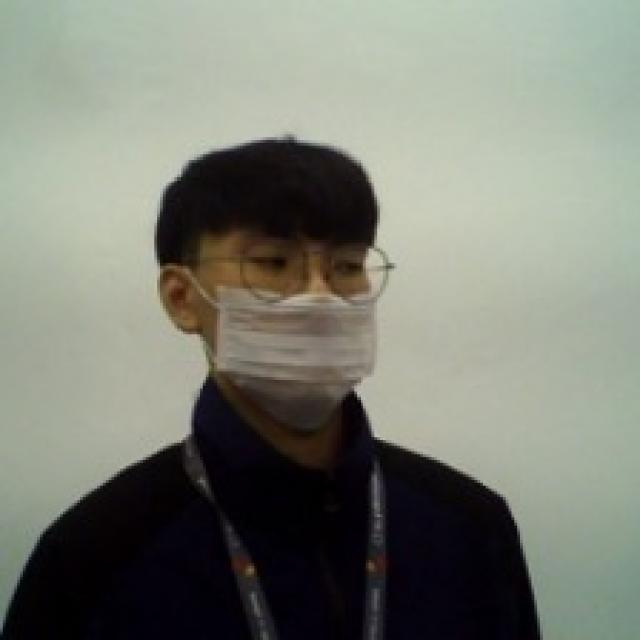mask: (152, 270, 384, 434)
no_gloves: (148, 138, 384, 268)
